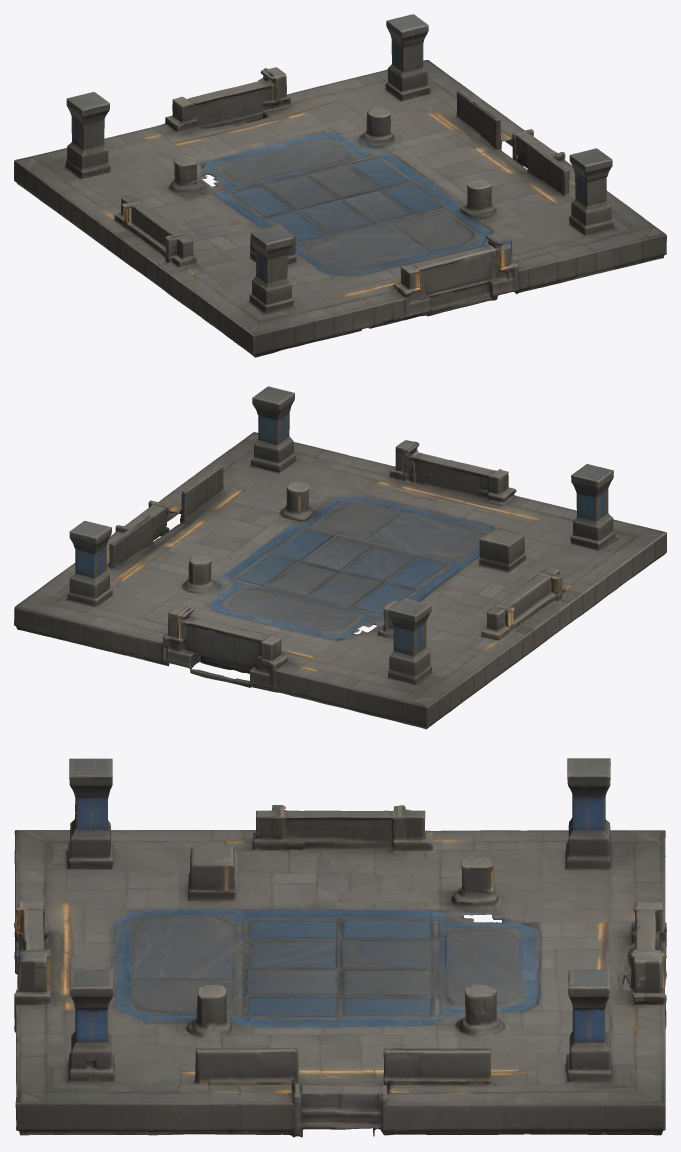
The model's file is Meshy_AI_Ancient_Arena_0219021940_texture.glb.
3 renders of one model, top to bottom at view 1: azimuth 30°, elevation 25°; view 2: azimuth 150°, elevation 25°; view 3: azimuth 270°, elevation 25°, orthographic. The views are drawn at different scales.
Size of the model in its own units: 2 by 0.4318 by 2.
Materials: 1 (1 with a texture image).
